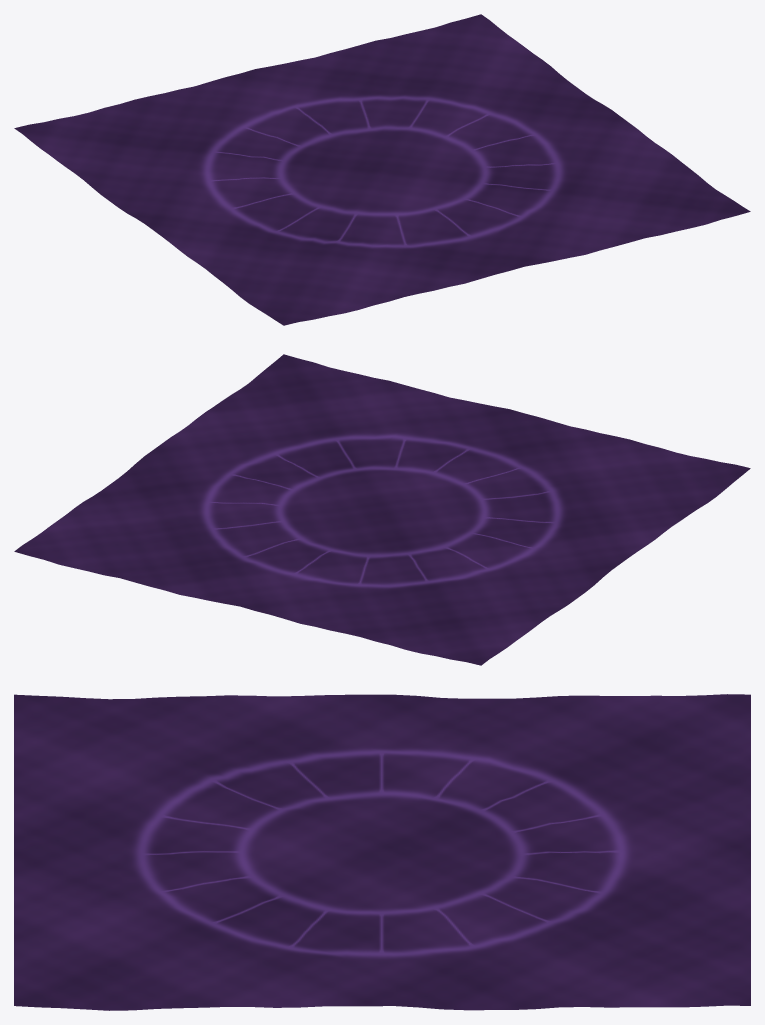
The model's file is MapBG_03_水晶内殿暗紫底.glb.
3 renders of one model, top to bottom at view 1: azimuth 30°, elevation 25°; view 2: azimuth 150°, elevation 25°; view 3: azimuth 270°, elevation 25°, orthographic. The views are drawn at different scales.
Parts seen in each view (by area): view 1: TerrainTile; view 2: TerrainTile; view 3: TerrainTile.
Part boxes in pixels (left/top/right/bottom): TerrainTile: left=14, top=14, right=750, bottom=325; TerrainTile: left=14, top=354, right=750, bottom=665; TerrainTile: left=14, top=694, right=750, bottom=1010.
Size of the model in its own units: 8 by 0.073 by 8.
1 material, 1 textured.
